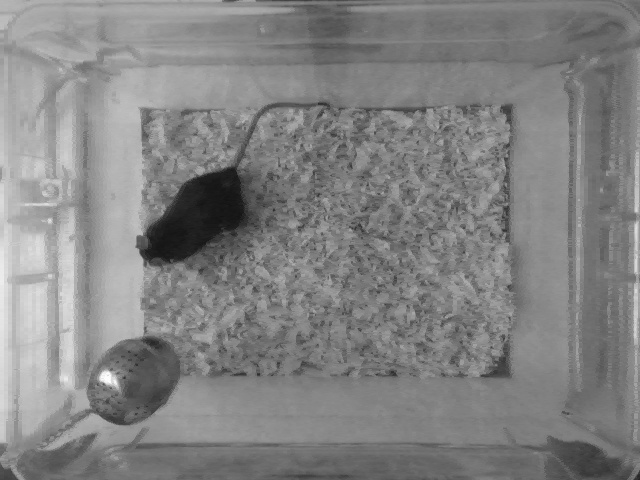mice: (134, 99, 329, 267)
